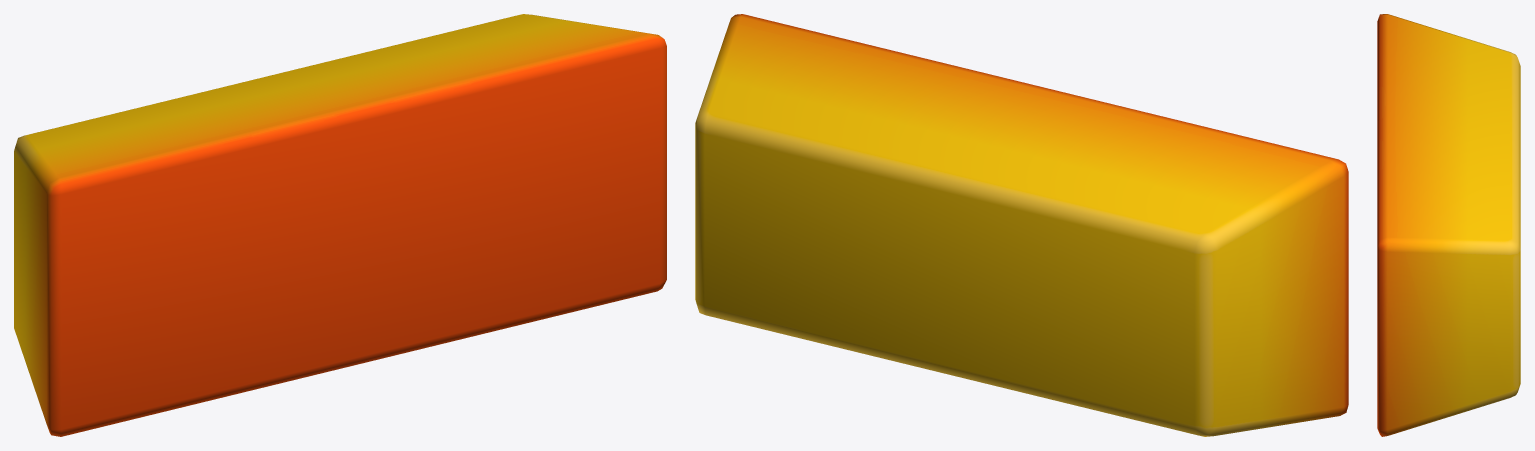
Rendered from GoldBar.FBX.
3 views of the same model, side by side, from view 1: azimuth 30°, elevation 25°; view 2: azimuth 150°, elevation 25°; view 3: azimuth 270°, elevation 25° (orthographic). The views are drawn at different scales.
Visible parts, largest first — view 1: GoldBar; view 2: GoldBar; view 3: GoldBar.
Boxes of the visible parts, x1,y1,x2,y2 form: GoldBar: (14, 14, 666, 436); GoldBar: (695, 14, 1348, 436); GoldBar: (1377, 14, 1520, 436).
Bounding box in the file's own units: 39.06 × 15.52 × 10.2.
Materials: 1 (1 with a texture image).
